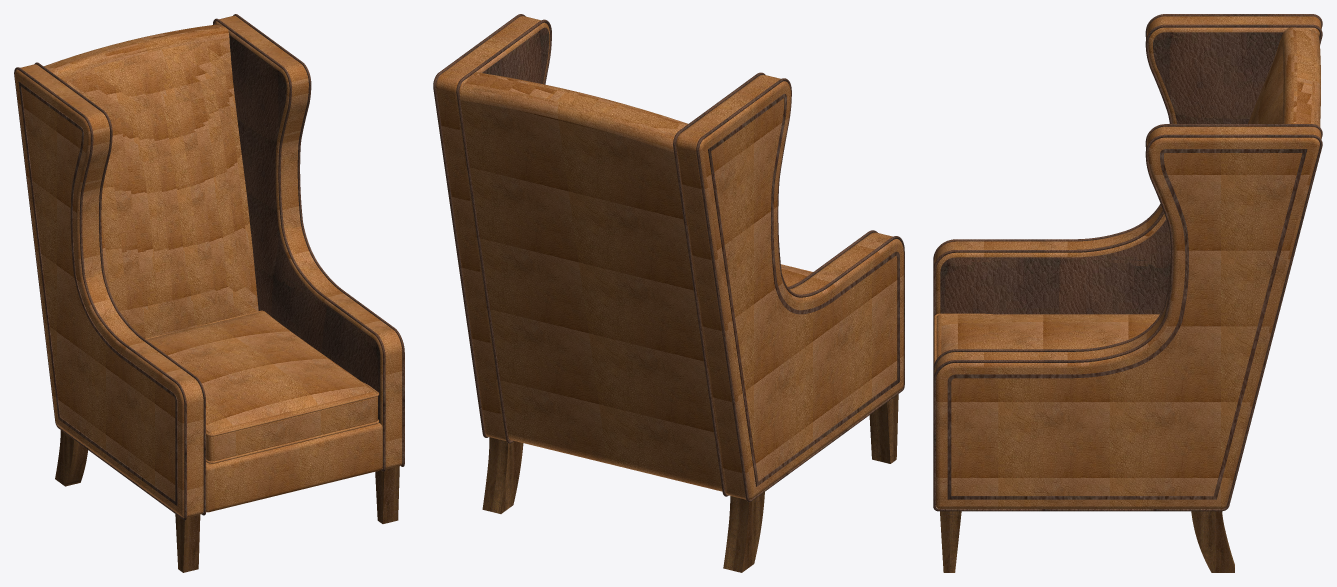
Rendered from chairfire.dae.
3 views of the same model, side by side, from view 1: azimuth 30°, elevation 25°; view 2: azimuth 150°, elevation 25°; view 3: azimuth 270°, elevation 25° (orthographic). The views are drawn at different scales.
Parts seen in each view (by area): view 1: Component_1 (×2), group_1, group_6, Group14_1, group_2, Component_2 (×4), group_4, group_5 (×2), group_0, group_7 (×2), Component_3 (×2), group_8; view 2: group_0, Component_1 (×2), Component_2 (×4), group_8 (×2), group_5, group_6, group_7; view 3: Component_1 (×2), group_6, Component_2 (×4), Group14_1, group_5, group_0, group_8, group_1, group_7.
Part boxes in pixels (x1,y1,x2,y2): Component_1 (×2): [15, 15, 402, 517]; group_1: [61, 38, 258, 338]; group_6: [229, 35, 380, 422]; Group14_1: [146, 311, 372, 430]; group_2: [206, 422, 382, 512]; Component_2 (×4): [14, 14, 404, 520]; group_4: [146, 311, 377, 461]; group_5 (×2): [18, 81, 177, 505]; group_0: [44, 24, 229, 78]; group_7 (×2): [175, 465, 399, 572]; Component_3 (×2): [145, 310, 379, 463]; group_8: [55, 430, 87, 486]; group_0: [456, 72, 725, 491]; Component_1 (×2): [436, 16, 903, 499]; Component_2 (×4): [433, 14, 904, 502]; group_8 (×2): [482, 437, 764, 572]; group_5: [708, 93, 899, 486]; group_6: [482, 27, 549, 83]; group_7: [869, 394, 898, 463]; Component_1 (×2): [934, 16, 1321, 508]; group_6: [940, 32, 1283, 314]; Component_2 (×4): [933, 14, 1322, 511]; Group14_1: [941, 314, 1159, 353]; group_5: [947, 149, 1307, 499]; group_0: [1282, 27, 1320, 126]; group_8: [1191, 511, 1234, 572]; group_1: [1248, 37, 1283, 123]; group_7: [940, 511, 961, 572].
Bounding box in the file's own units: 27.94 × 37.11 × 46.53.
4 materials, 4 textured.
